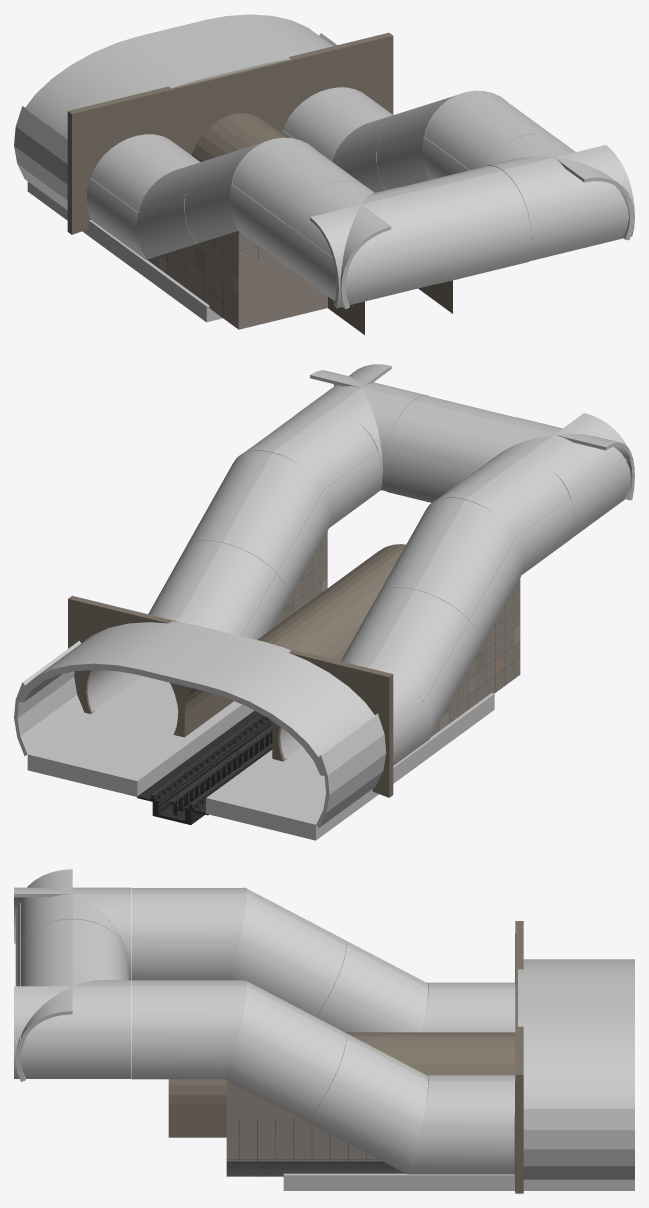
Rendered from stage_1.fbx.
3 views of the same model, one above another, from view 1: azimuth 30°, elevation 25°; view 2: azimuth 150°, elevation 25°; view 3: azimuth 270°, elevation 25° (orthographic).
Parts seen in each view (by area): view 1: Cylinder, Grid.107, Cylinder.040, Cylinder.011, Cylinder.073, Cylinder.038, Cylinder.087, Cylinder.088, Cylinder.034, Cylinder.069, Cylinder.033, Cylinder.032 (+24 smaller); view 2: Cylinder.040, Cylinder.071, Cylinder.036, Grid.007, Cylinder.067, Cylinder.029, Cylinder.039, Grid.094, Cylinder, Cylinder.011, Cylinder.038, Cylinder.073 (+30 smaller); view 3: Cylinder.011, Cylinder.039, Grid.042, Cylinder.022, Cylinder.038, Cylinder.073, Cylinder.036, Cylinder.071, Cylinder.029, Cylinder.032, Cylinder.067, Cylinder.083 (+22 smaller).
Part boxes in pixels (left/top/right/bottom): Cylinder: left=67, top=32, right=393, bottom=234; Grid.107: left=147, top=231, right=327, bottom=329; Cylinder.040: left=25, top=28, right=231, bottom=138; Cylinder.011: left=172, top=14, right=332, bottom=73; Cylinder.073: left=232, top=137, right=363, bottom=223; Cylinder.038: left=425, top=90, right=556, bottom=169; Cylinder.087: left=502, top=145, right=632, bottom=219; Cylinder.088: left=414, top=170, right=528, bottom=241; Cylinder.034: left=310, top=192, right=439, bottom=266; Cylinder.069: left=91, top=134, right=200, bottom=212; Cylinder.033: left=334, top=241, right=442, bottom=308; Cylinder.032: left=283, top=87, right=392, bottom=161; Cylinder.040: left=172, top=634, right=374, bottom=776; Cylinder.071: left=378, top=497, right=515, bottom=620; Cylinder.036: left=185, top=450, right=323, bottom=573; Grid.007: left=27, top=712, right=196, bottom=796; Cylinder.067: left=341, top=587, right=468, bottom=701; Cylinder.029: left=148, top=540, right=275, bottom=635; Cylinder.039: left=189, top=544, right=405, bottom=733; Grid.094: left=206, top=754, right=375, bottom=840; Cylinder: left=68, top=595, right=393, bottom=797; Cylinder.011: left=17, top=621, right=230, bottom=702; Cylinder.038: left=244, top=407, right=377, bottom=489; Cylinder.073: left=437, top=454, right=569, bottom=536; Cylinder.011: left=518, top=996, right=634, bottom=1107; Cylinder.039: left=168, top=1032, right=515, bottom=1137; Grid.042: left=226, top=1080, right=405, bottom=1176; Cylinder.022: left=523, top=1108, right=634, bottom=1179; Cylinder.038: left=131, top=980, right=247, bottom=1037; Cylinder.073: left=131, top=888, right=247, bottom=945; Cylinder.036: left=237, top=980, right=346, bottom=1085; Cylinder.071: left=237, top=887, right=346, bottom=993; Cylinder.029: left=330, top=1032, right=428, bottom=1132; Cylinder.032: left=420, top=1075, right=515, bottom=1133; Cylinder.067: left=330, top=940, right=428, bottom=1032; Cylinder.083: left=14, top=986, right=130, bottom=1037.
Bounding box in the file's own units: 1445 × 861 × 2461.
